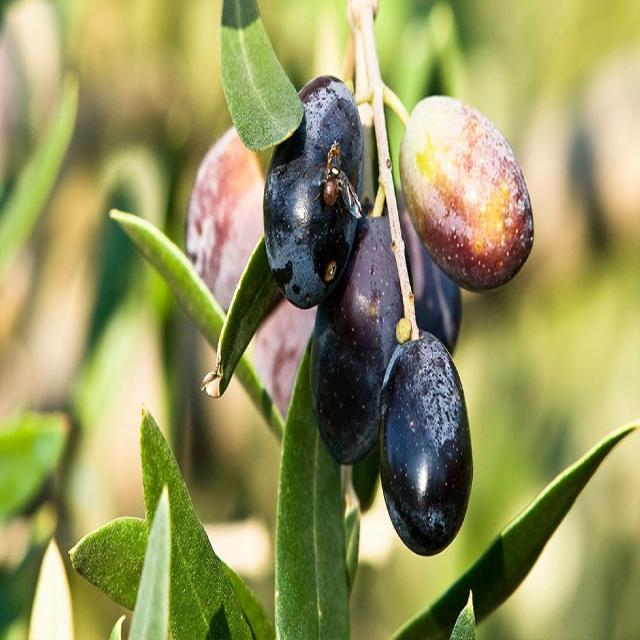Olive Fruit Fly: (263, 75, 363, 309)
